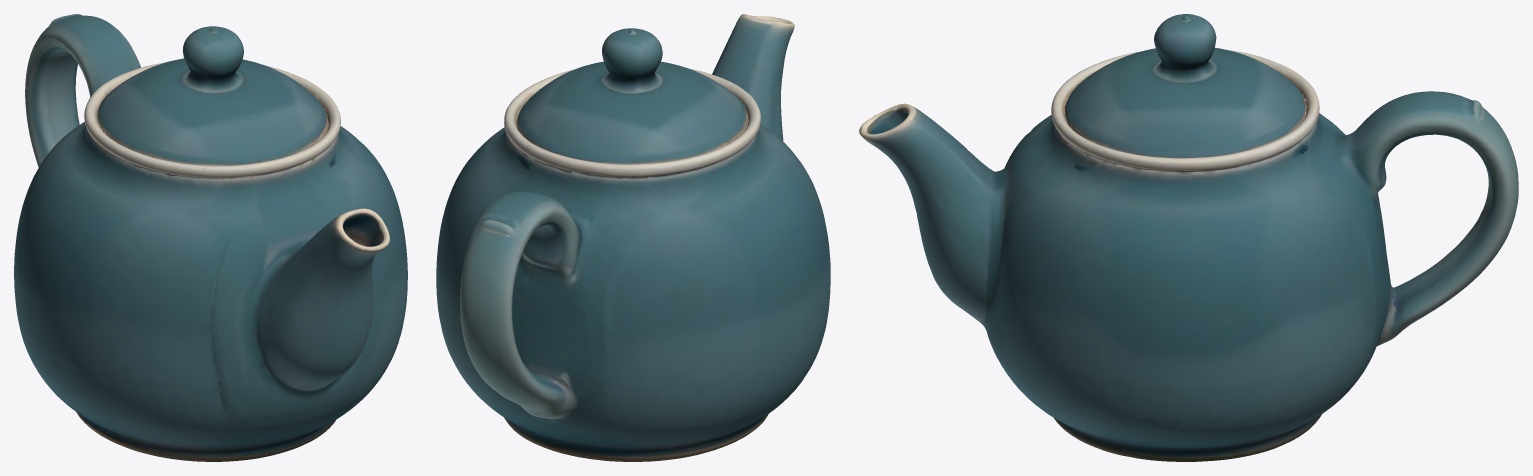
File: sample.glb
3 views of the same model, side by side, from view 1: azimuth 30°, elevation 25°; view 2: azimuth 150°, elevation 25°; view 3: azimuth 270°, elevation 25° (orthographic). The views are drawn at different scales.
Visible parts, largest first — view 1: tripo_node_c12fce4c-d588-4fb3-8196-ec662e2f2417; view 2: tripo_node_c12fce4c-d588-4fb3-8196-ec662e2f2417; view 3: tripo_node_c12fce4c-d588-4fb3-8196-ec662e2f2417.
Boxes of the visible parts, left/top/right/bottom form: tripo_node_c12fce4c-d588-4fb3-8196-ec662e2f2417: left=14, top=14, right=407, bottom=461; tripo_node_c12fce4c-d588-4fb3-8196-ec662e2f2417: left=436, top=14, right=830, bottom=461; tripo_node_c12fce4c-d588-4fb3-8196-ec662e2f2417: left=859, top=14, right=1518, bottom=461.
Size of the model in its own units: 0.6166 by 0.6584 by 0.9999.
1 material, 1 textured.
